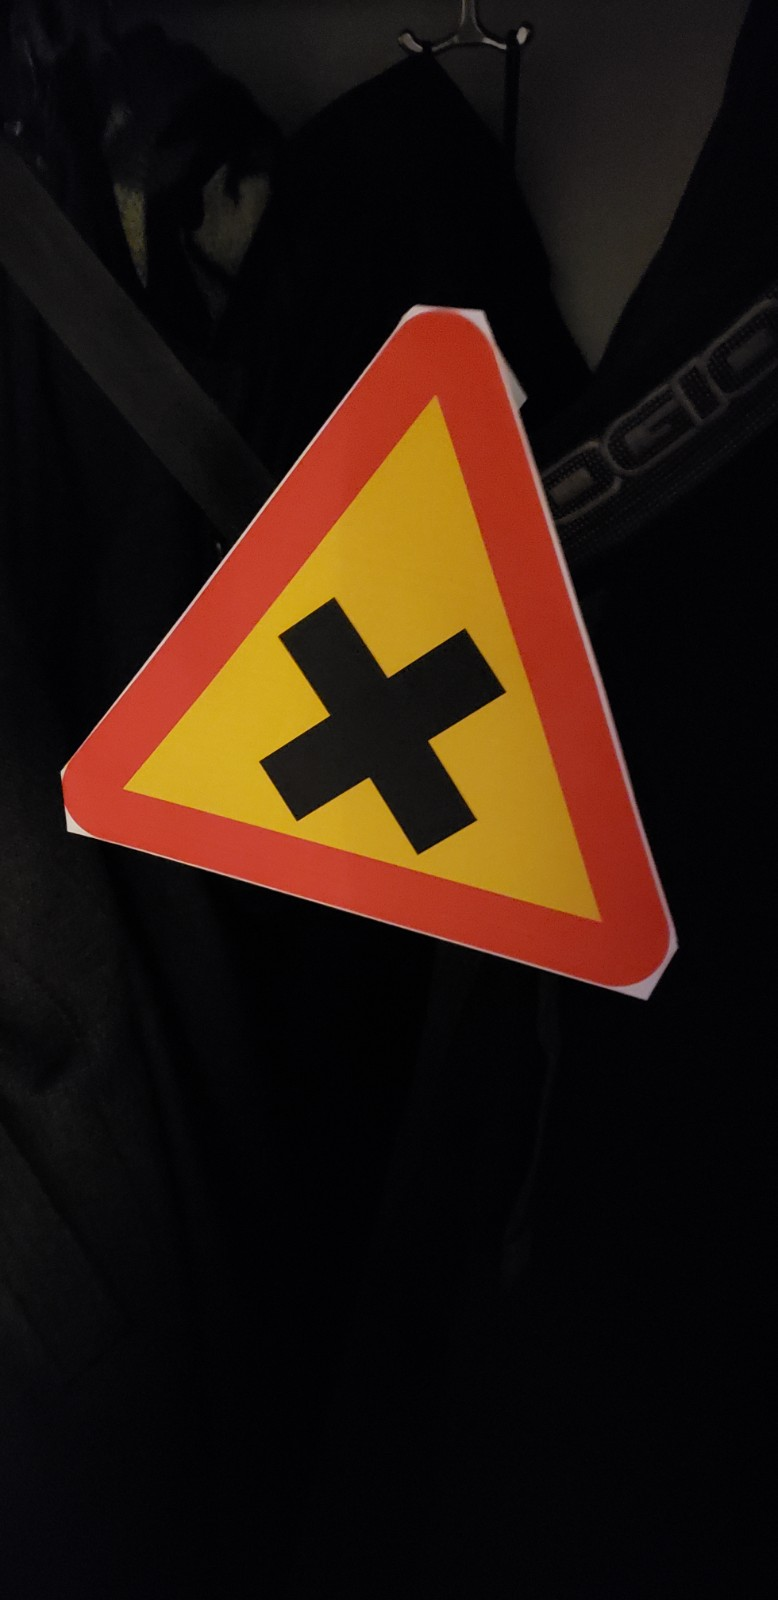junction: (68, 294, 694, 1058)
